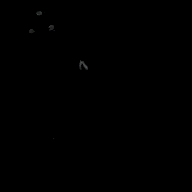v: (27, 8, 55, 32)
